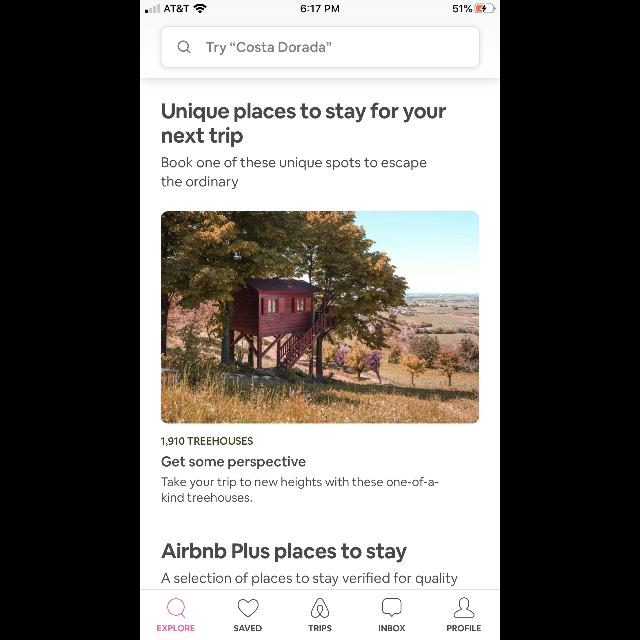icon: (454, 598, 474, 618), (382, 598, 402, 618), (238, 599, 258, 617), (167, 598, 185, 618), (178, 40, 190, 54)
image: (161, 212, 479, 424), (311, 598, 329, 618)
input: (160, 27, 480, 68)
text: (162, 103, 446, 147), (162, 157, 426, 189), (162, 476, 438, 502), (162, 542, 406, 562), (162, 572, 458, 586), (162, 456, 306, 469), (206, 42, 332, 56), (162, 438, 252, 447), (158, 625, 195, 631), (448, 625, 480, 631), (234, 625, 262, 631), (379, 625, 405, 631), (308, 625, 332, 631)
uppertaskbar: (140, 0, 500, 14)
